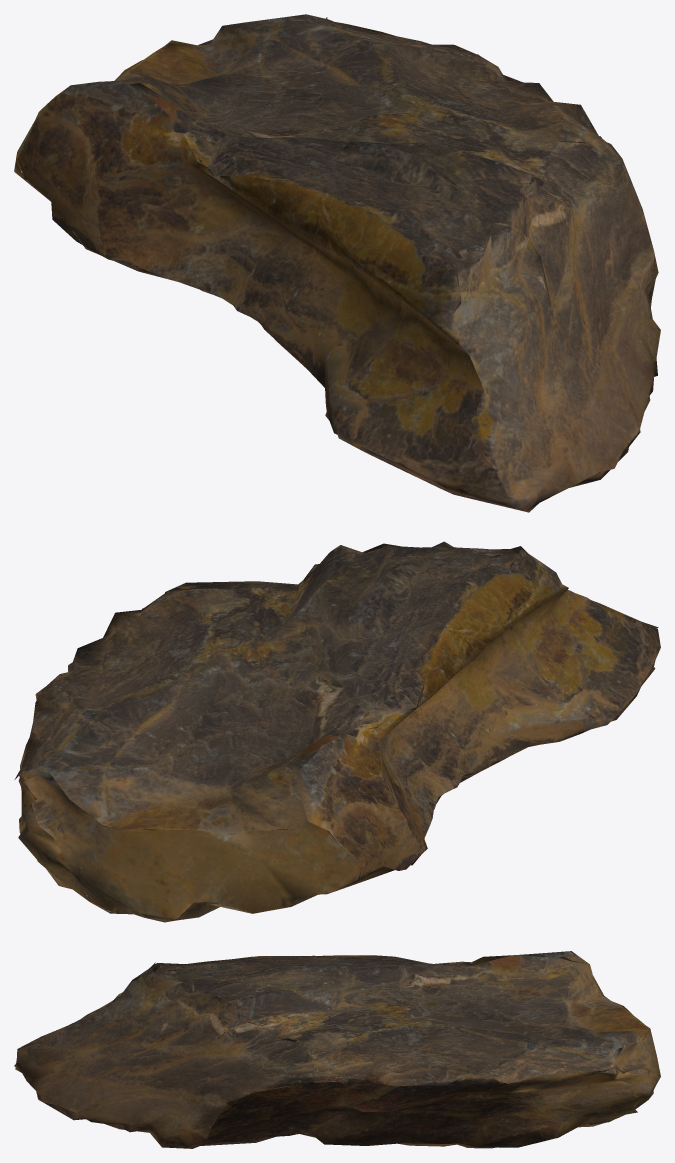
The model's file is rock_09.glb.
3 renders of one model, top to bottom at view 1: azimuth 30°, elevation 25°; view 2: azimuth 150°, elevation 25°; view 3: azimuth 270°, elevation 25°, orthographic. The views are drawn at different scales.
Visible parts, largest first — view 1: rock_09_LOD0; view 2: rock_09_LOD0; view 3: rock_09_LOD0.
Boxes of the visible parts, x1,y1,x2,y2 form: rock_09_LOD0: (14,14,660,512); rock_09_LOD0: (14,541,660,922); rock_09_LOD0: (14,951,660,1148).
Bounding box in the file's own units: 0.0742 × 0.0334 × 0.1447.
Materials: 1 (1 with a texture image).
